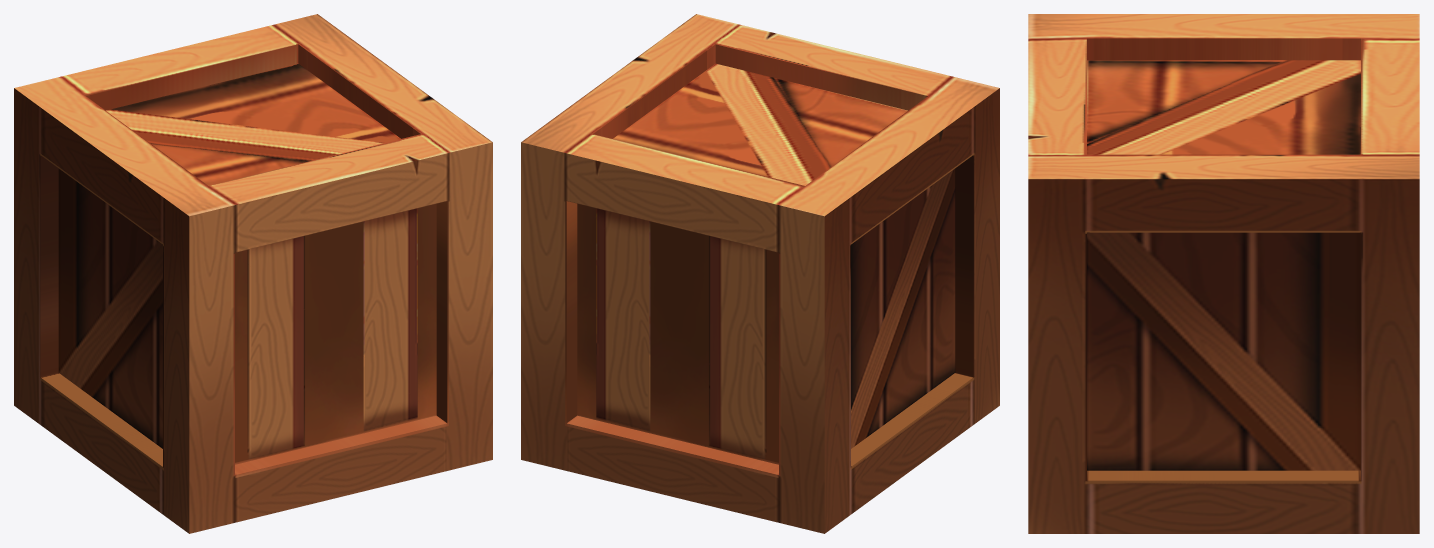
Rendered from Chest_Forest.fbx.
3 renders of one model, left to right at view 1: azimuth 30°, elevation 25°; view 2: azimuth 150°, elevation 25°; view 3: azimuth 270°, elevation 25°, orthographic. The views are drawn at different scales.
Parts seen in each view (by area): view 1: Chest_Forest; view 2: Chest_Forest; view 3: Chest_Forest.
Boxes of the visible parts, x1,y1,x2,y2 form: Chest_Forest: (14,14,492,533); Chest_Forest: (521,14,999,533); Chest_Forest: (1028,14,1419,533).
Bounding box in the file's own units: 248 × 248 × 248.
1 material, 1 textured.
